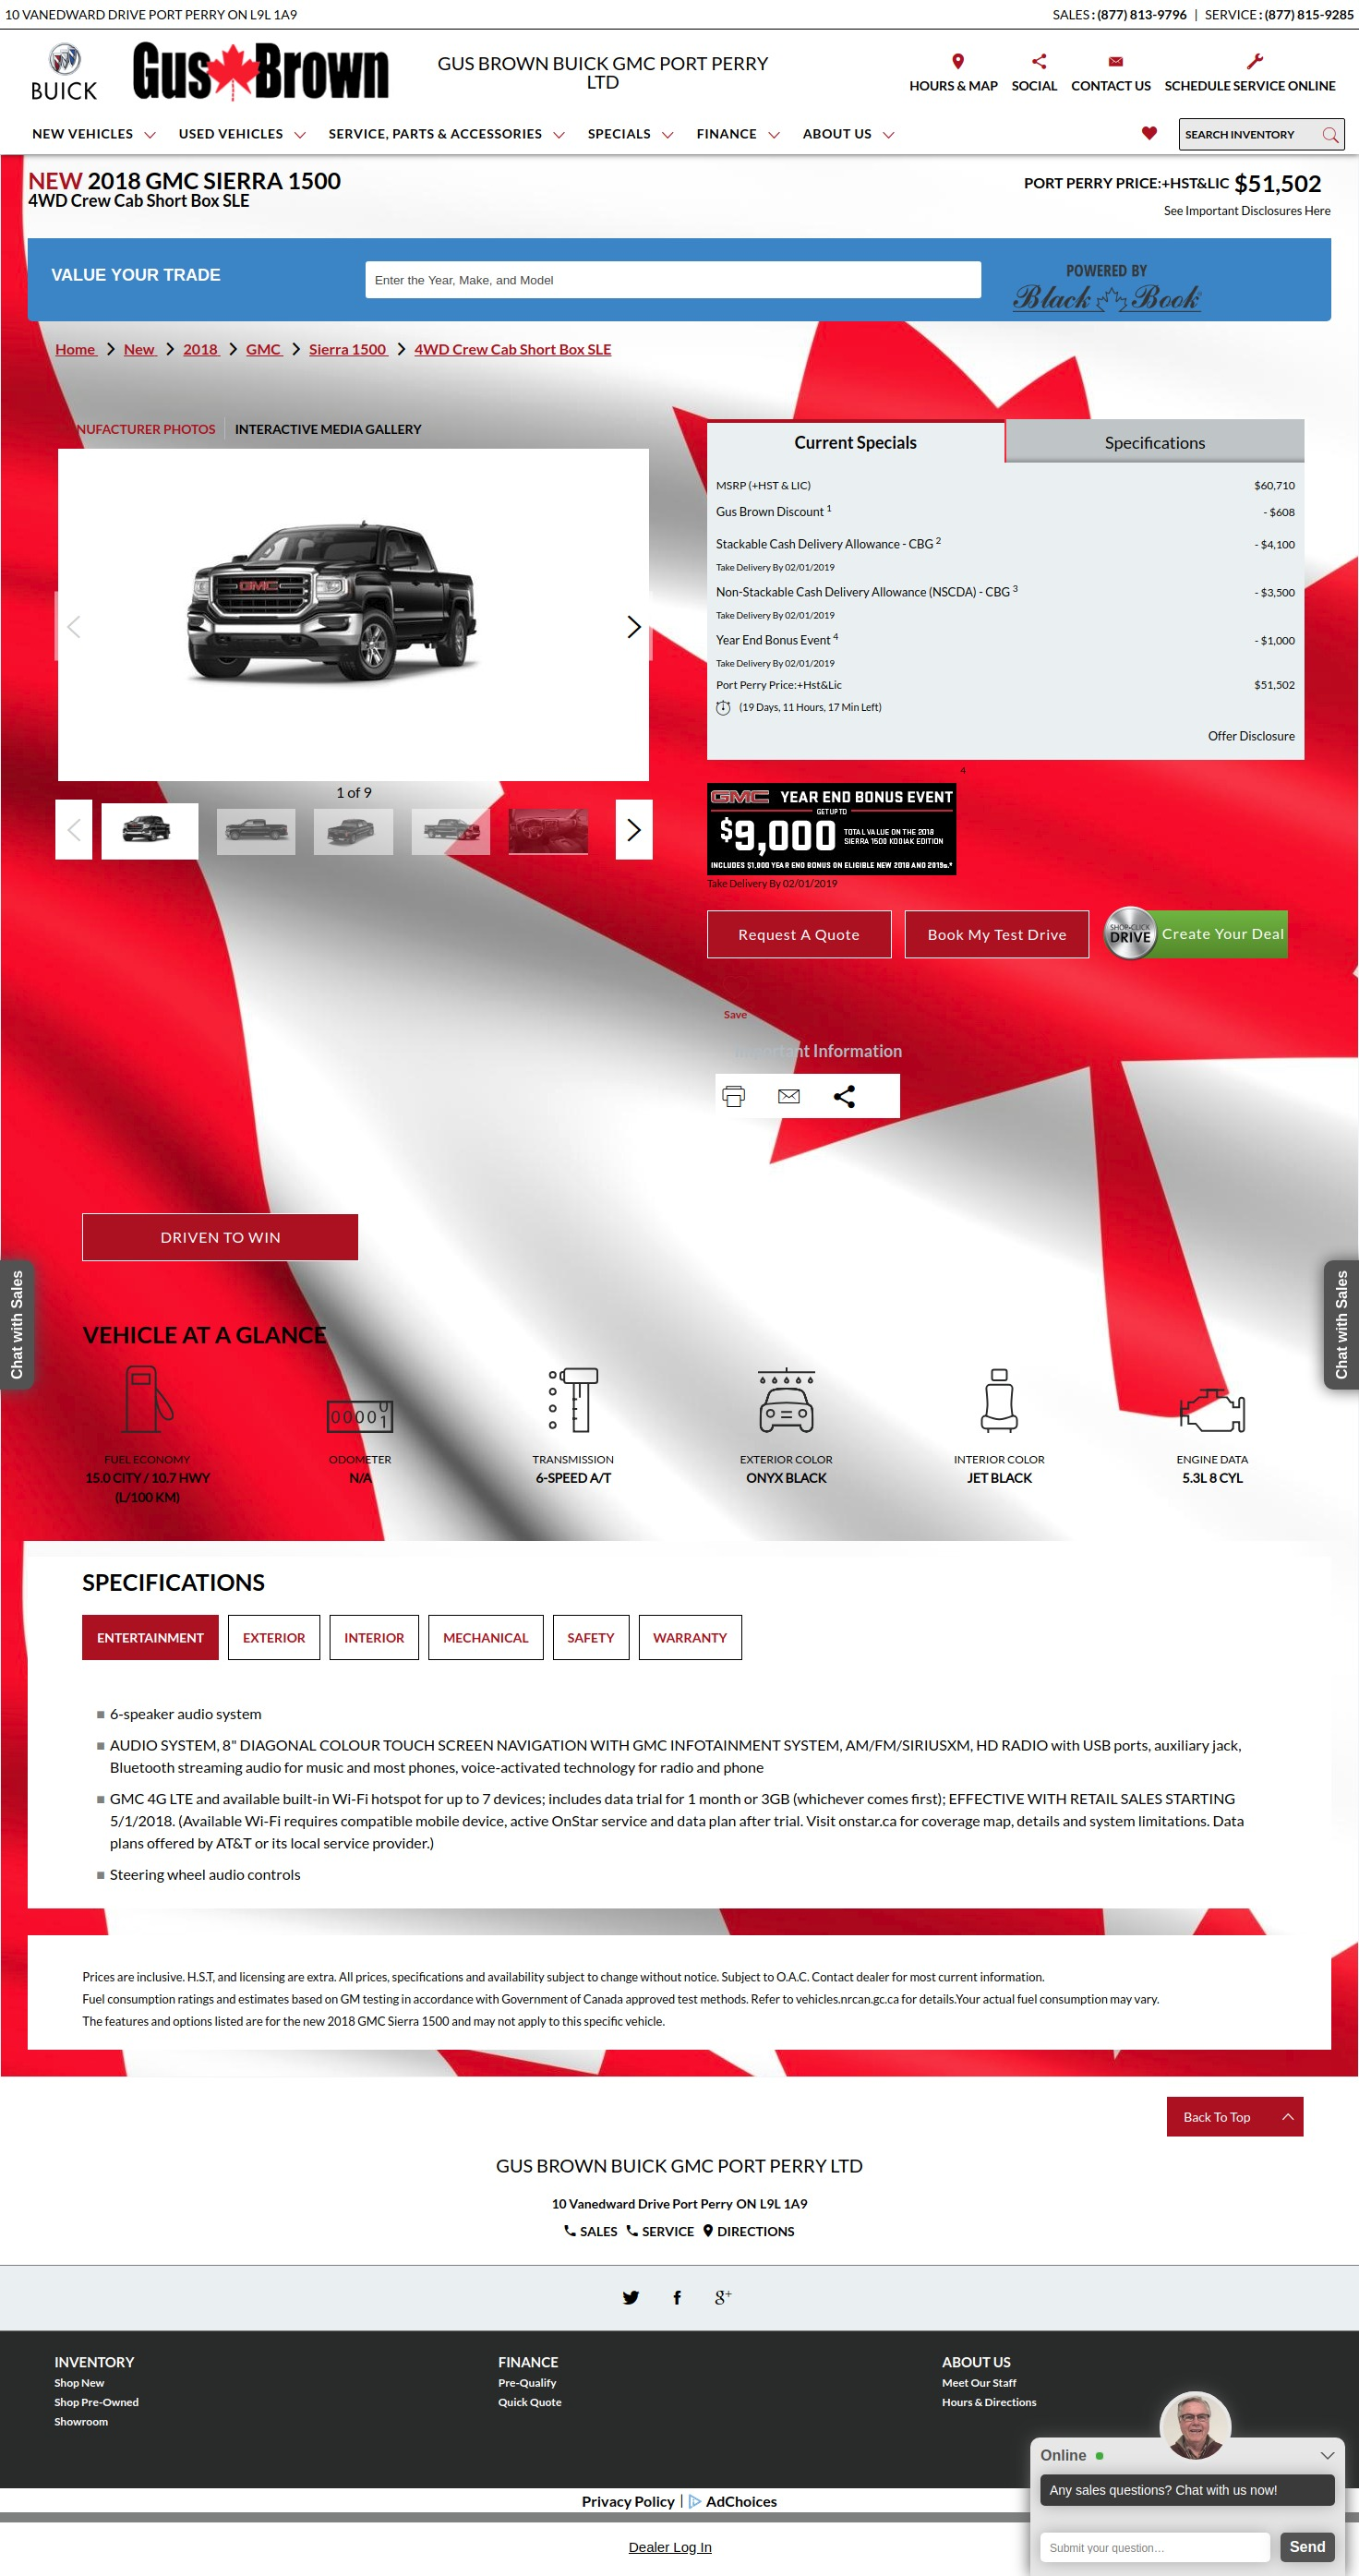car: (628, 819, 642, 842)
